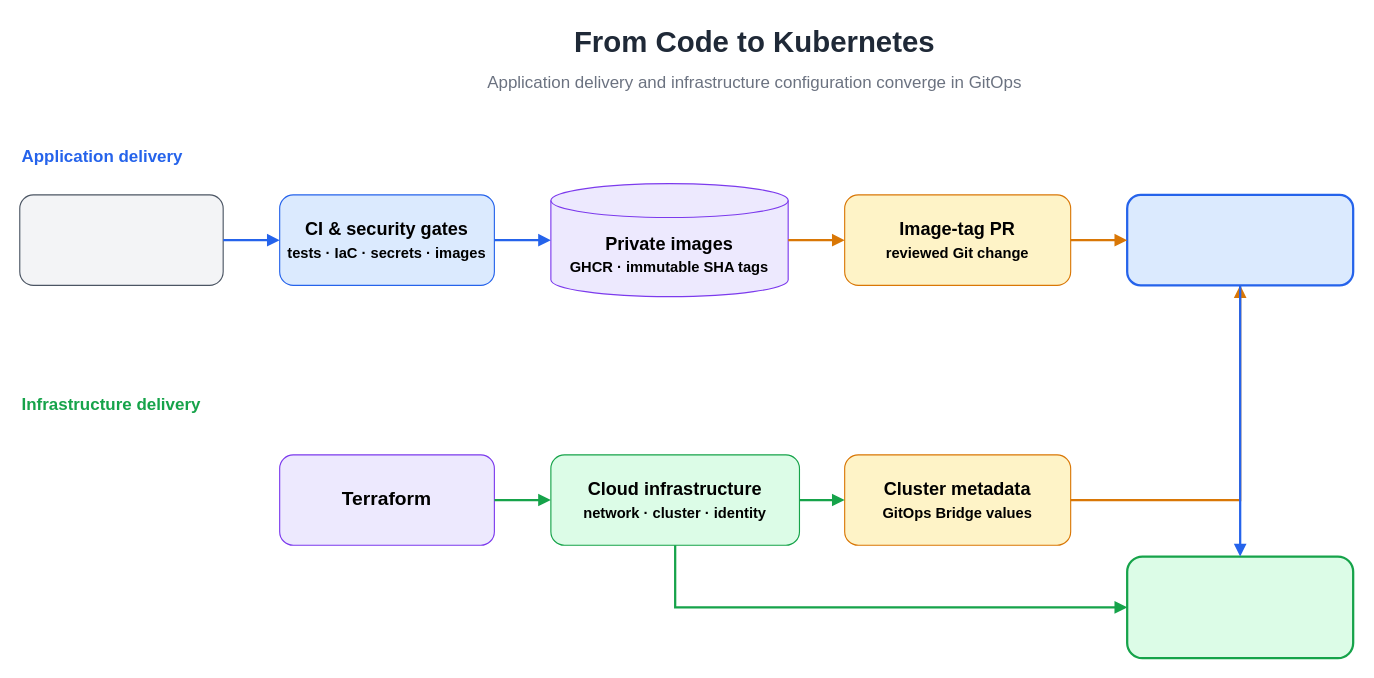
Some shapes in this 1374 by 678 pixel diagram are drawn without their labels. Here are the shapes that lost their labels. From the top down, the centre of each, then its label:
point 121,239: Code change
point 1239,239: Argo CD reconcile desired state
point 1239,607: EKS & AKS platform + workloads
